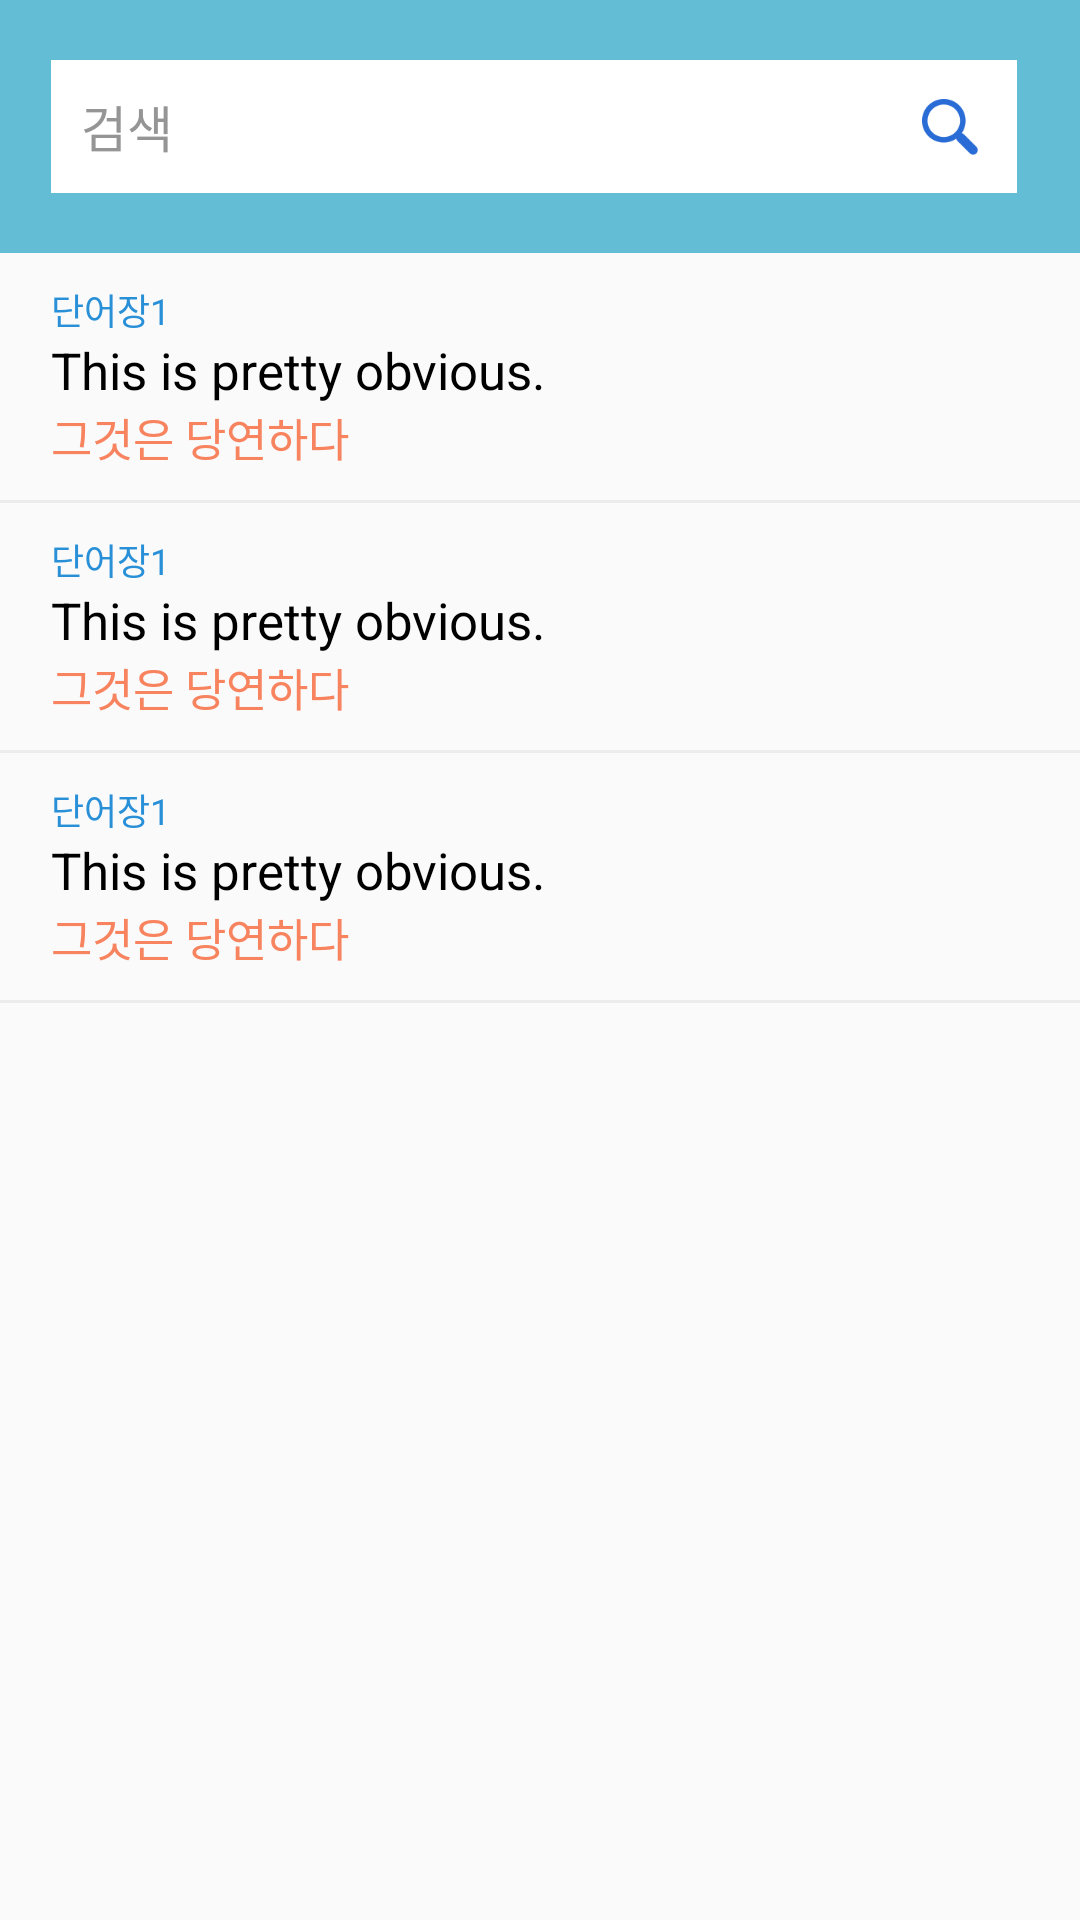

Locate icon controls on the screen. Image size 1080 x 1920, boxes as (x1, y1, x2, y2).
search: (922, 99, 978, 155)
